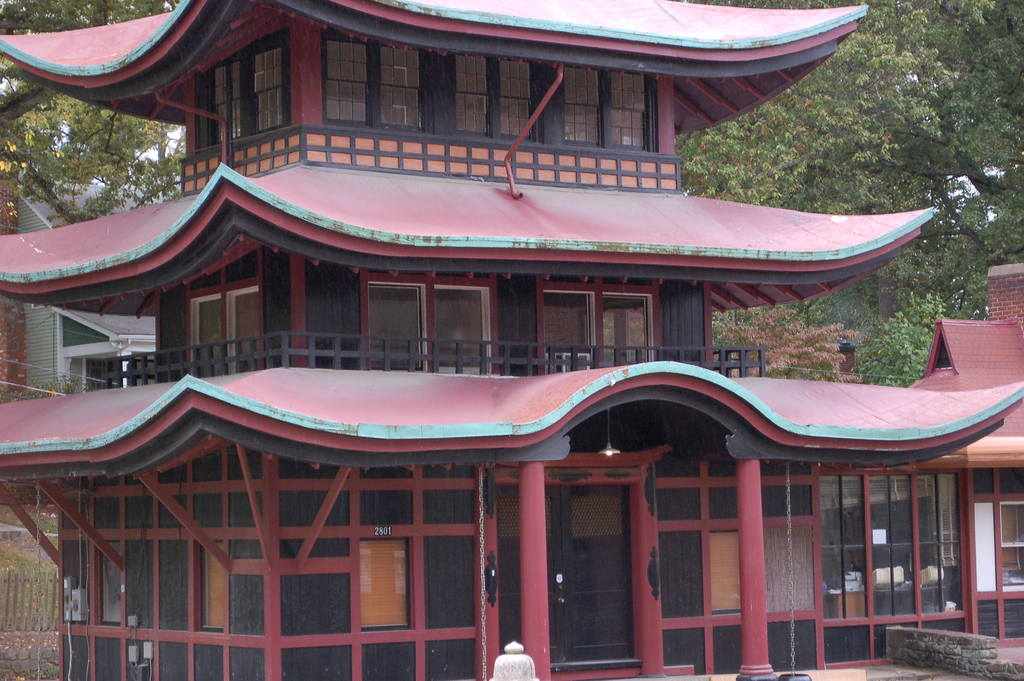Tree: (671, 0, 1023, 396), (0, 0, 176, 261), (855, 288, 952, 386)
